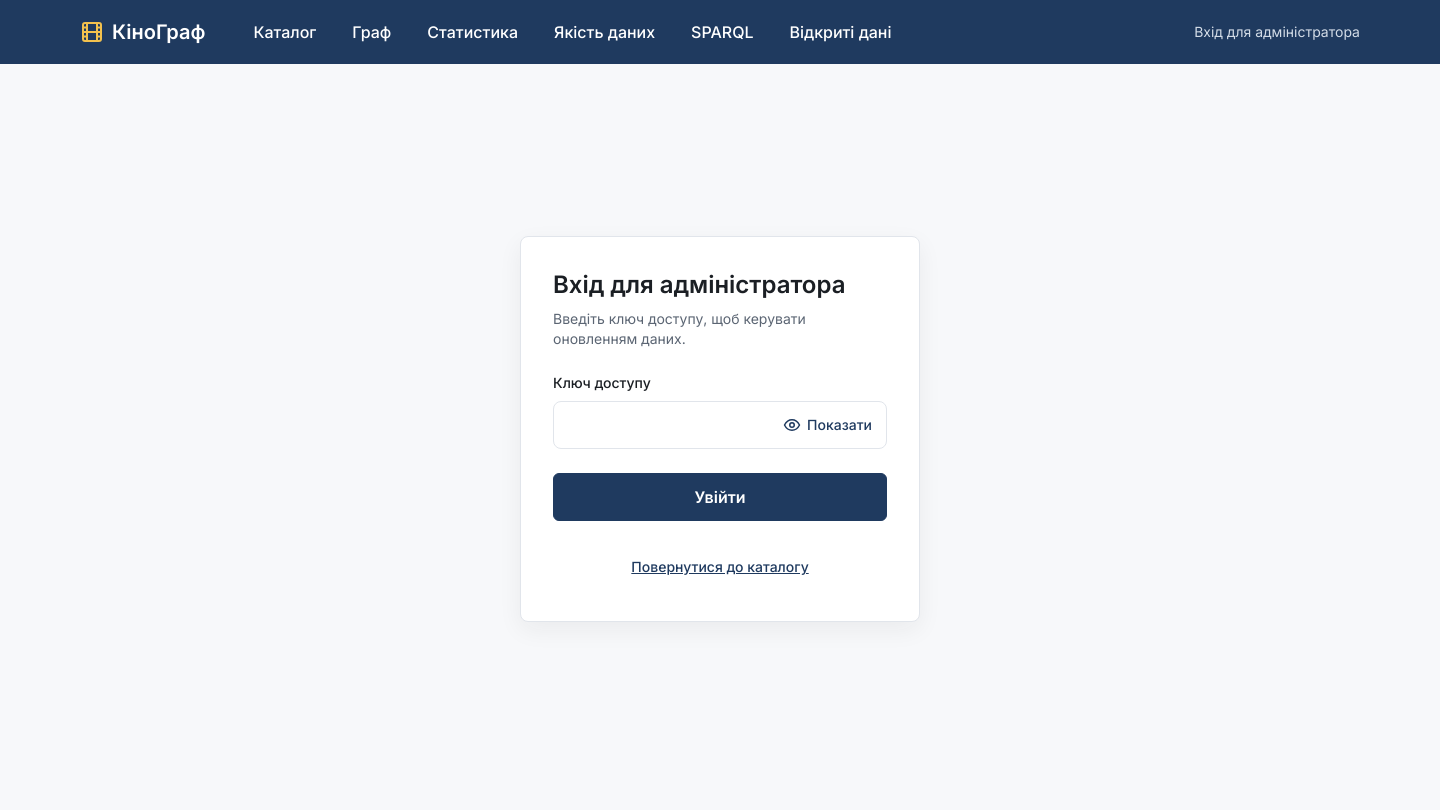
Test: вхід адміністратора › перевіряє ключ на сервері й відкриває панель
The width and height of the screenshot is (1440, 810).
Type "secret" into the password field labelled "Ключ доступу" at [670, 425], box [566,403,773,447]
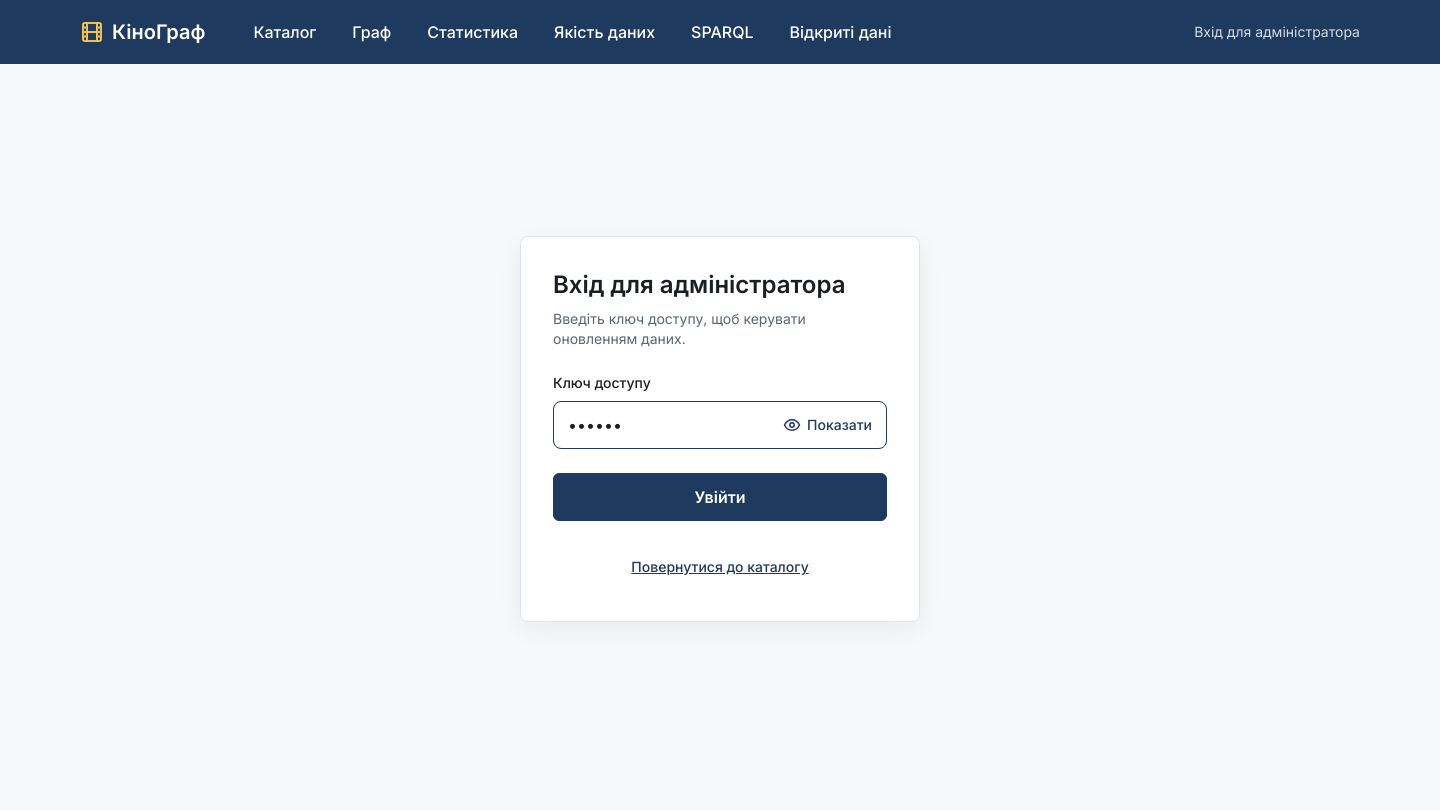
Click the button "Увійти" at [720, 497], box [553,473,887,521]
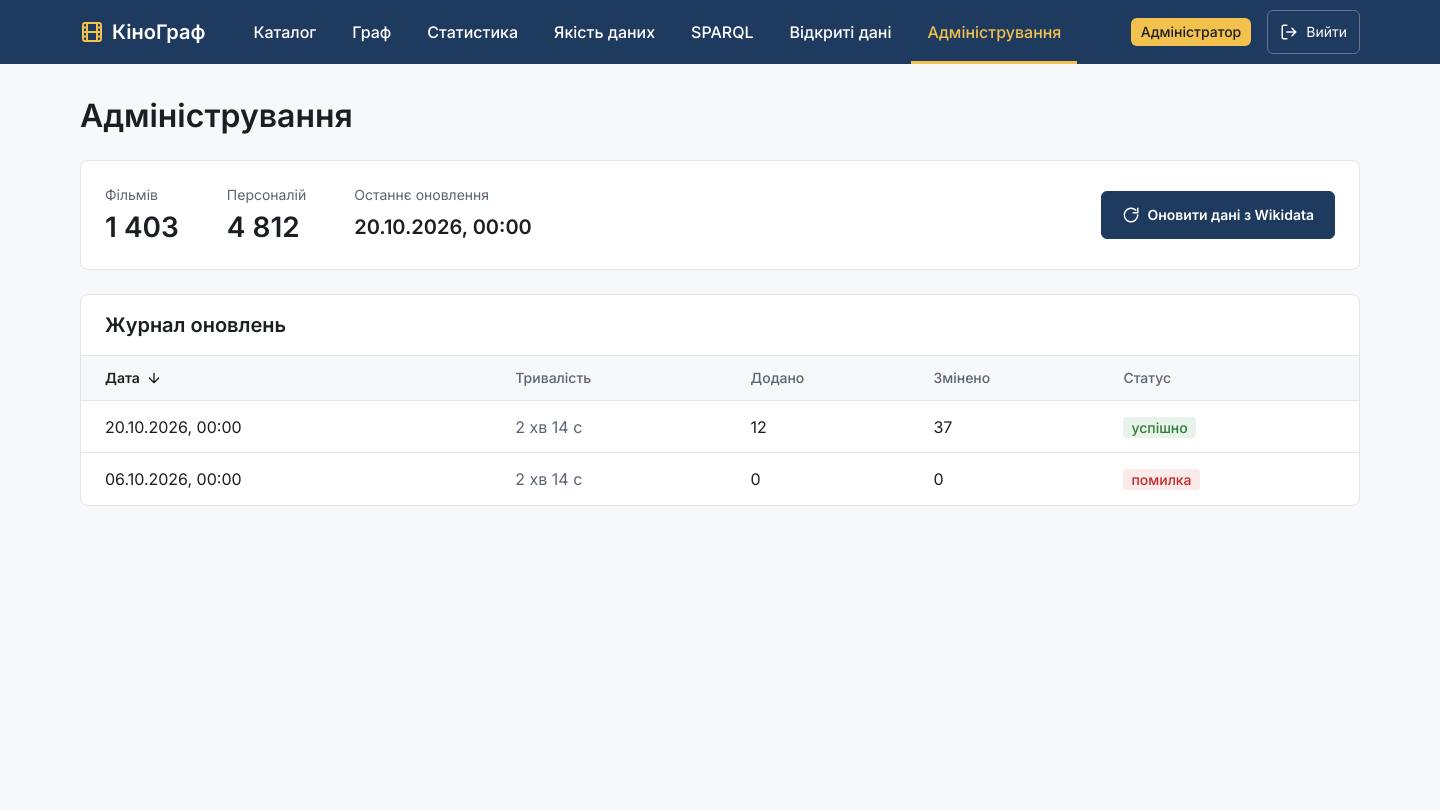
Expected: the heading "Адміністрування" is shown, [80,96,353,135]
